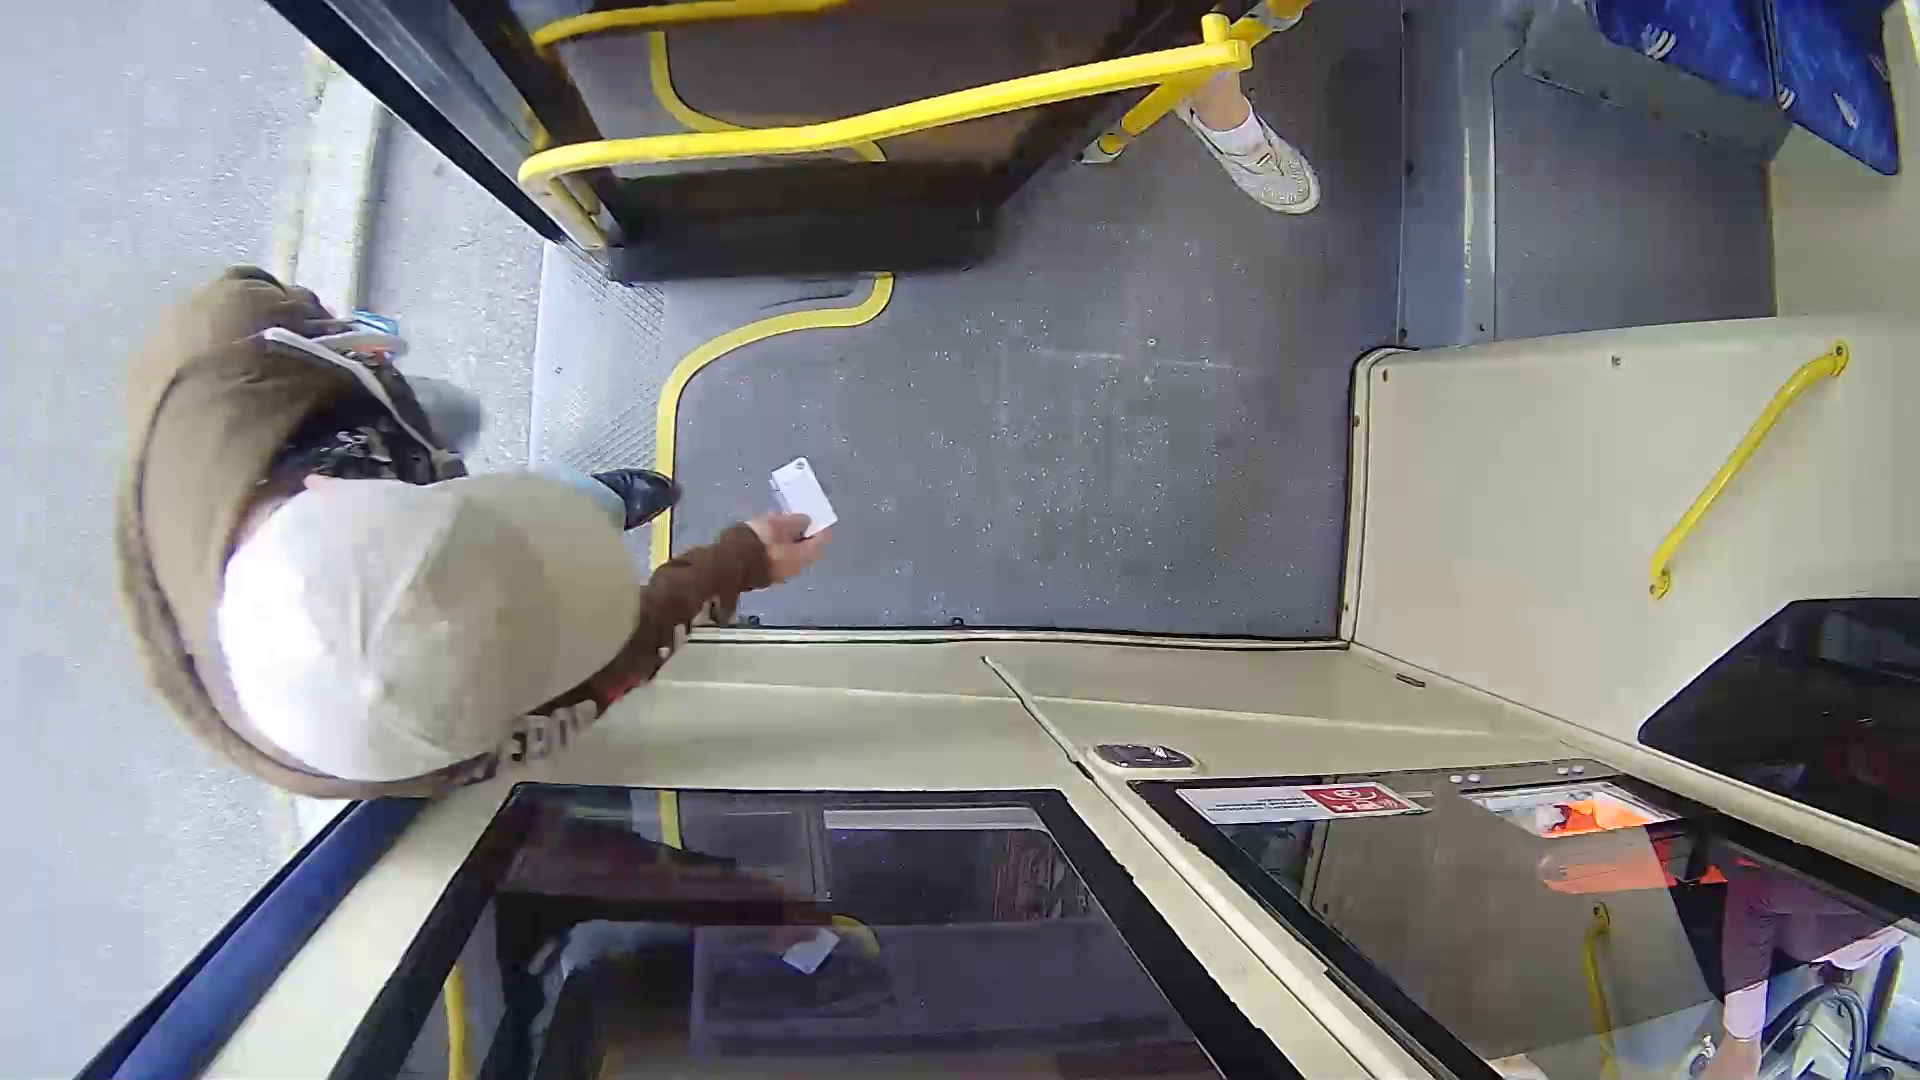person: (64, 270, 889, 782)
